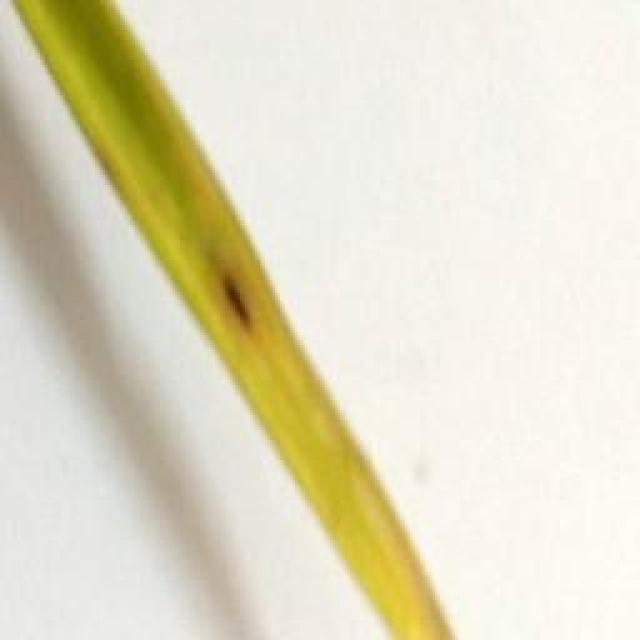Brown_Spot: (187, 259, 281, 345)
